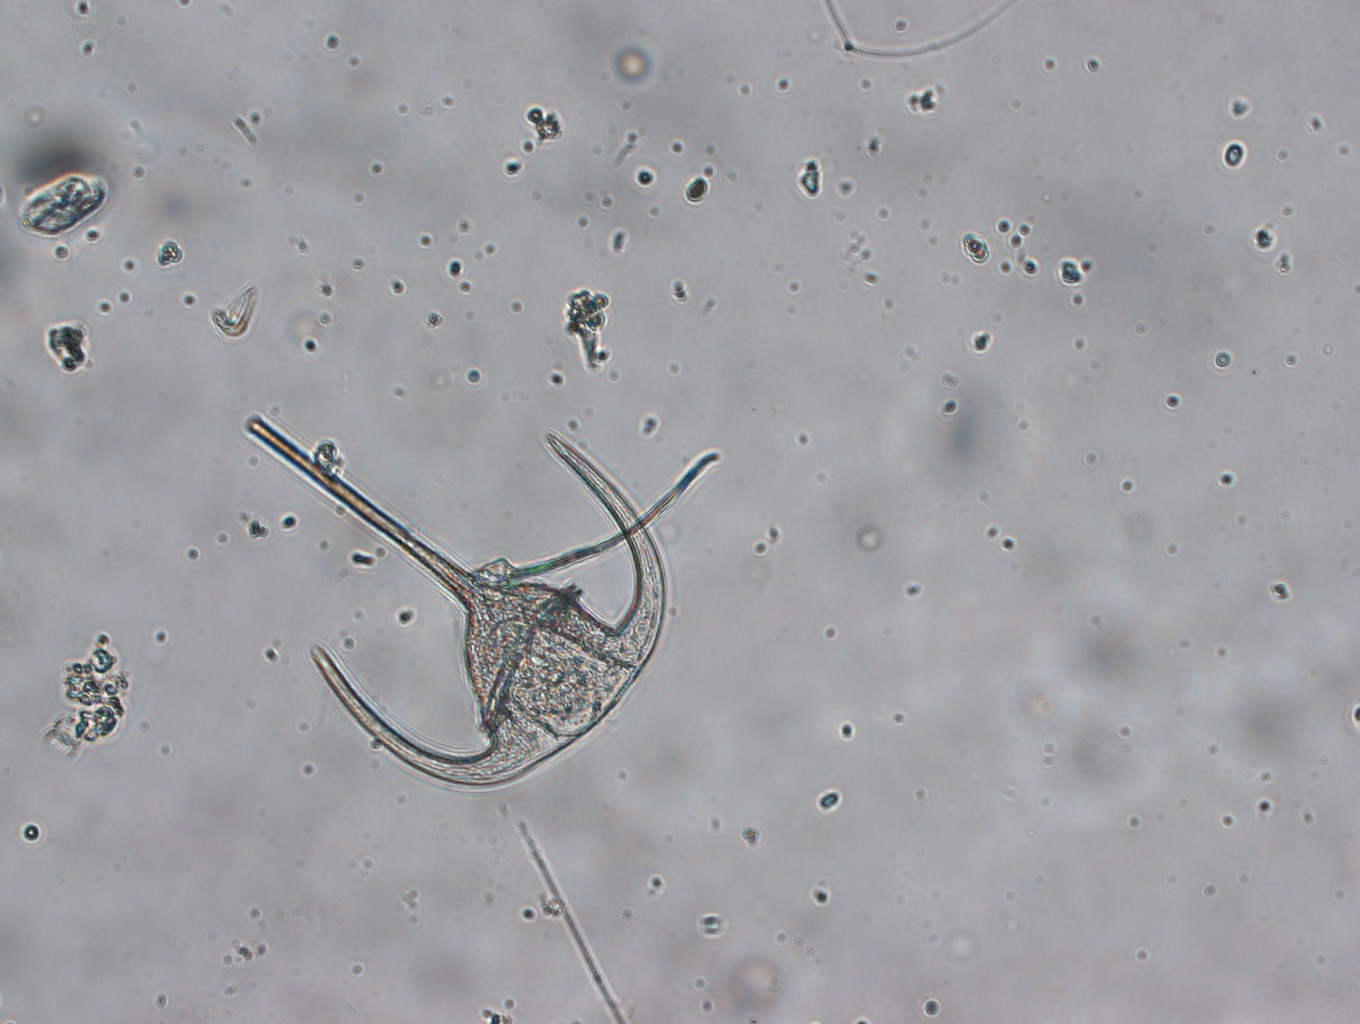ceratium tripos: (240, 415, 668, 790)
